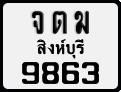letters: (20, 60, 40, 86), (41, 60, 60, 85), (61, 61, 80, 85), (81, 61, 100, 85), (51, 10, 69, 35), (73, 10, 91, 35), (30, 9, 45, 35)
province: (36, 37, 86, 60)
